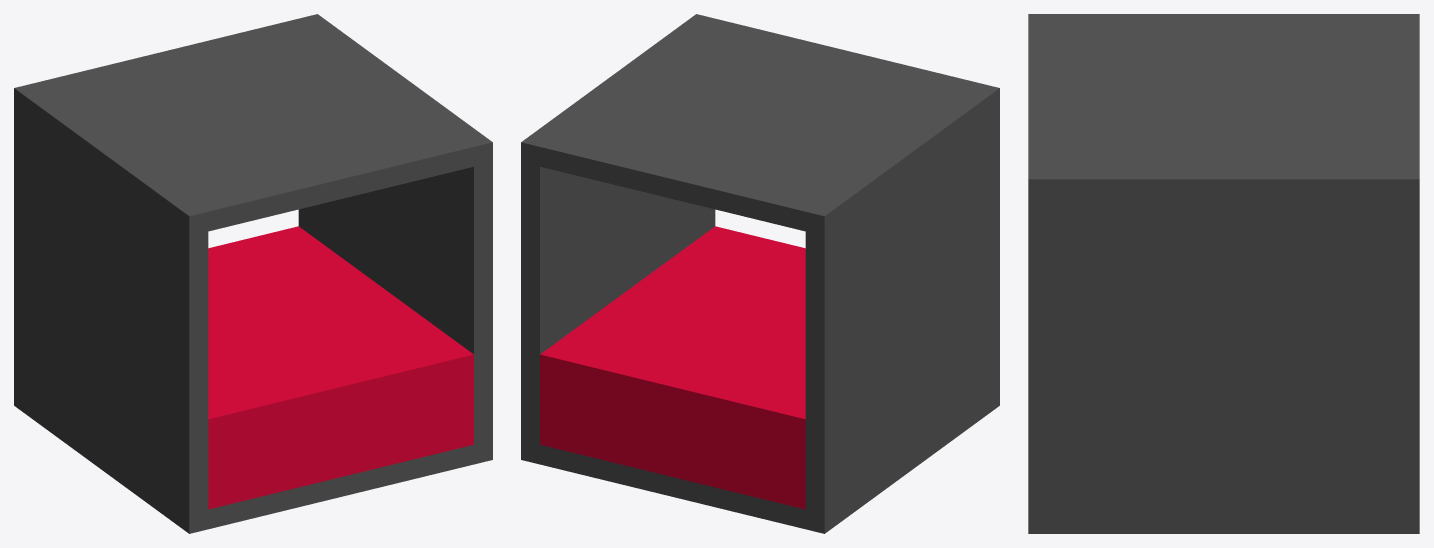
The model's file is furnacePlaceholder.fbx.
The picture shows the model from 3 angles, left to right: view 1: azimuth 30°, elevation 25°; view 2: azimuth 150°, elevation 25°; view 3: azimuth 270°, elevation 25°; orthographic projection. The views are drawn at different scales.
Parts seen in each view (by area): view 1: Cube.001; view 2: Cube.001; view 3: Cube.001.
Part boxes in pixels (x1,y1,x2,y2): Cube.001: [14, 14, 492, 533]; Cube.001: [521, 14, 999, 533]; Cube.001: [1028, 14, 1419, 533].
Size of the model in its own units: 200 by 200 by 200.
